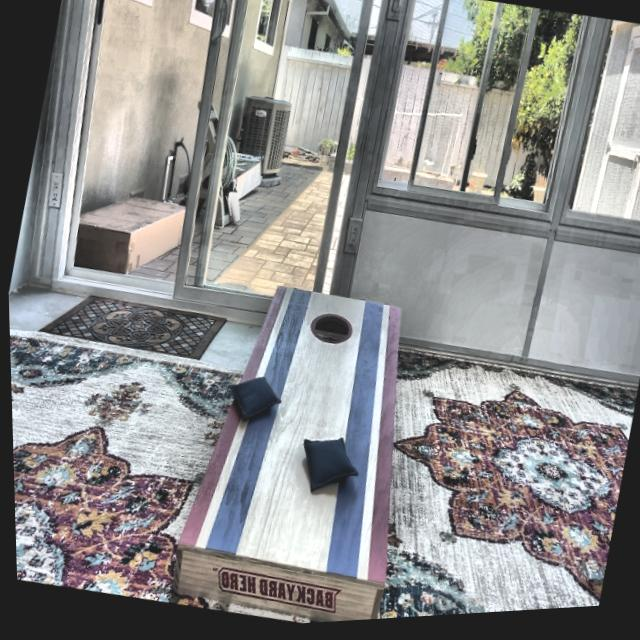blue-bean-bag: (289, 430, 361, 503), (219, 370, 283, 428)
board: (208, 281, 411, 586)
hole: (305, 308, 353, 351)
